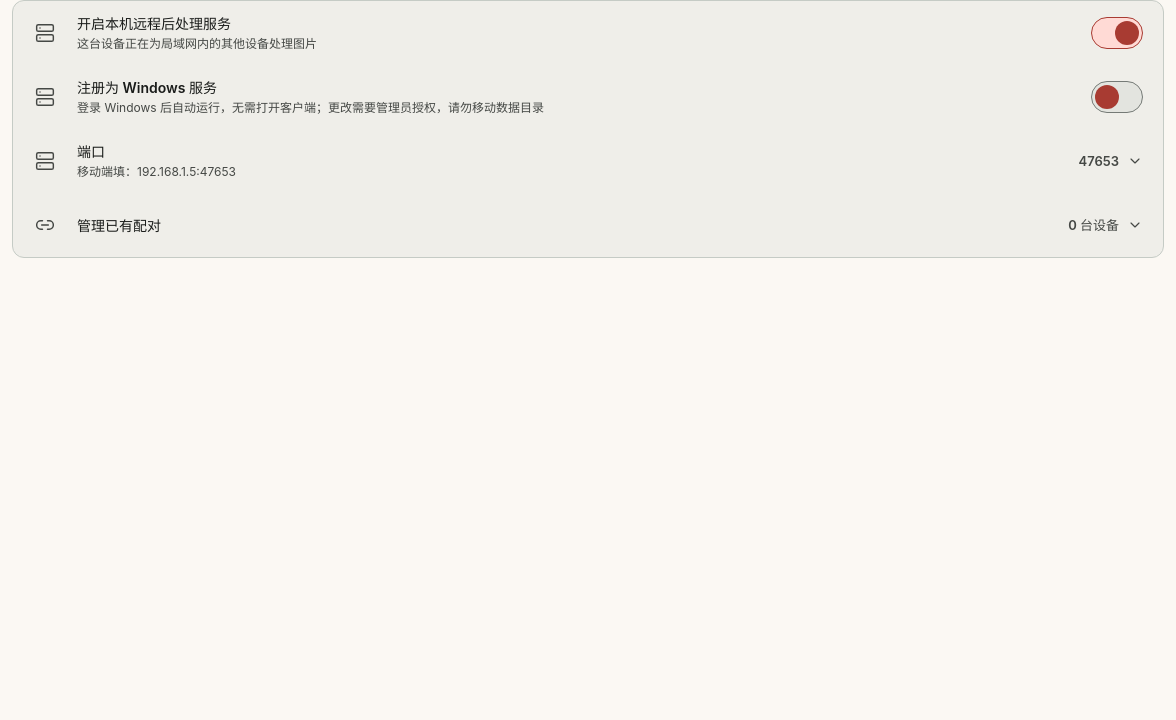
Test: compute center paired clients › registers and uninstalls the Windows service without toggling local serving
The image size is (1176, 720).
Click the switch named "注册为 Windows 服务". click: (1117, 97)
box: [1091,81,1143,113]
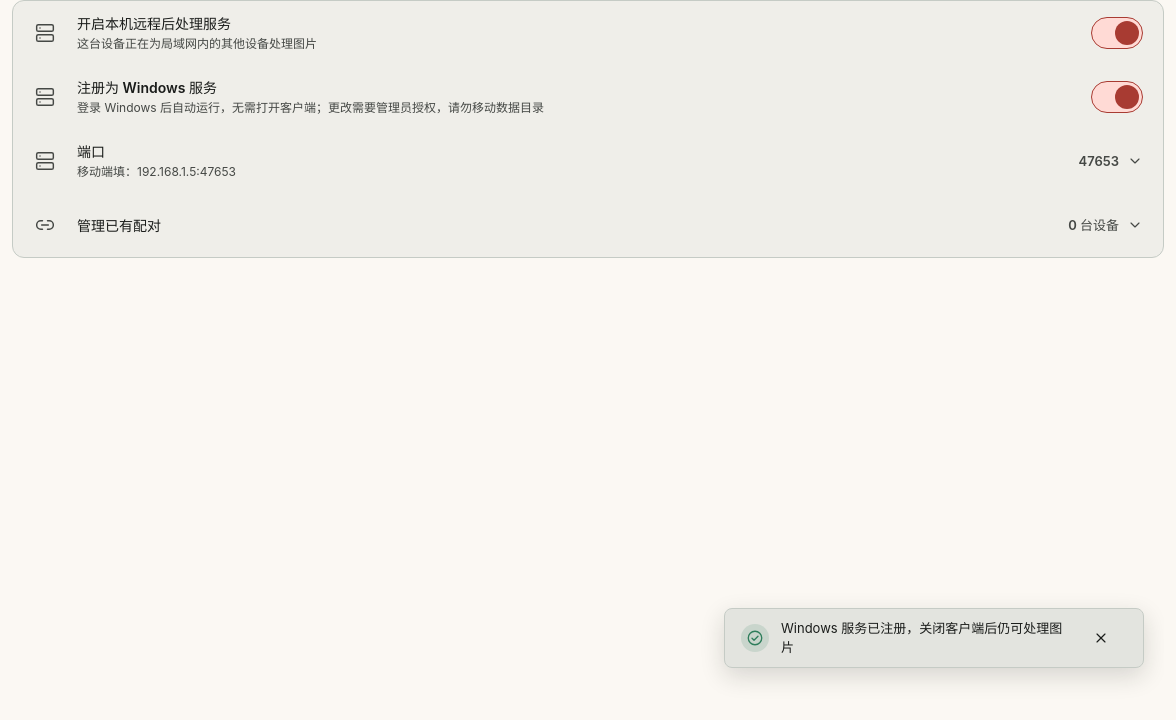
Expected: the switch named "注册为 Windows 服务" is checked
Click the switch named "注册为 Windows 服务". click: (1117, 97)
box: [1091,81,1143,113]
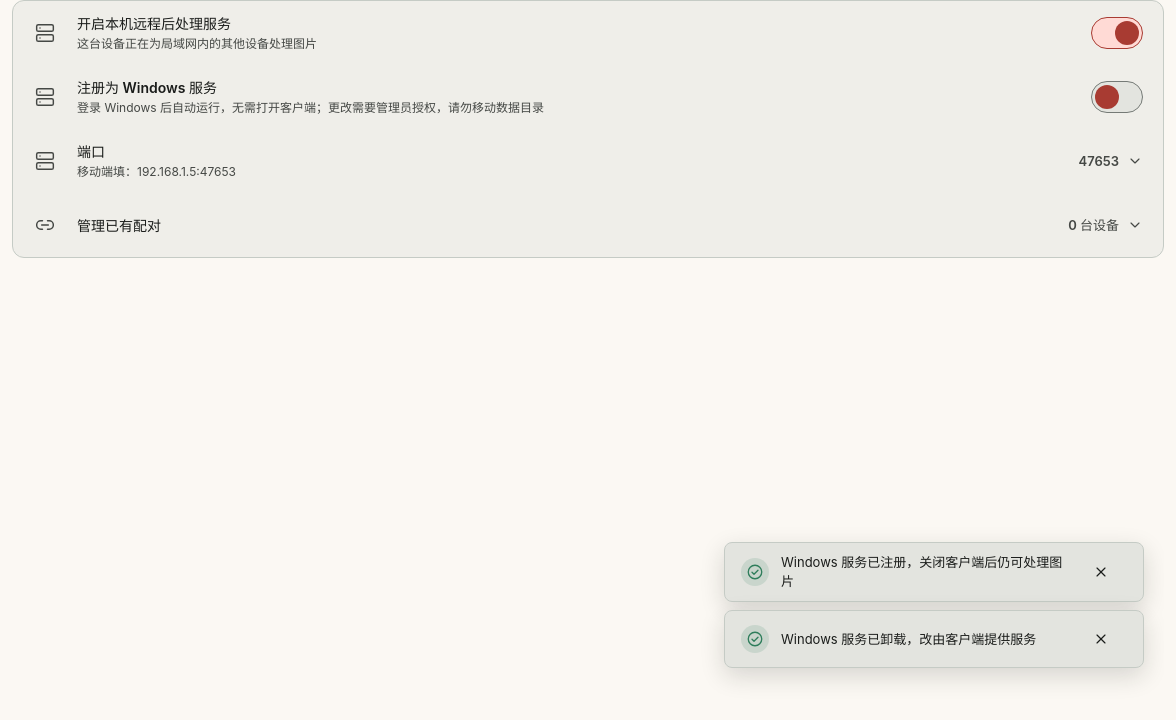
Expected: the switch named "注册为 Windows 服务" is not checked, [1091,81,1143,113]
